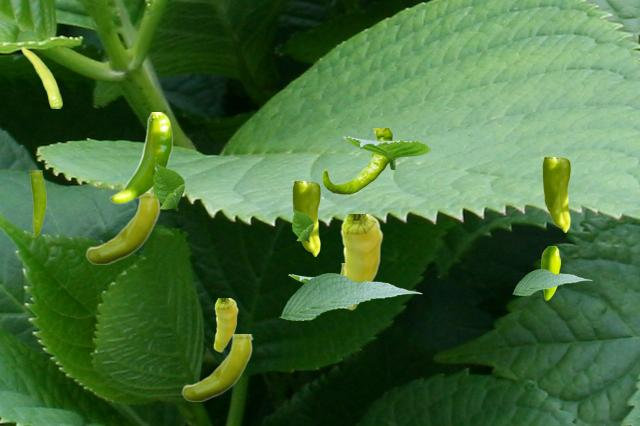green_chili: (109, 112, 172, 203), (85, 193, 160, 263), (181, 334, 252, 400), (322, 128, 392, 194), (338, 214, 382, 309), (21, 46, 61, 107), (541, 157, 569, 231), (291, 181, 319, 255), (213, 298, 237, 351), (29, 170, 45, 236), (541, 246, 559, 299), (339, 263, 343, 273)
